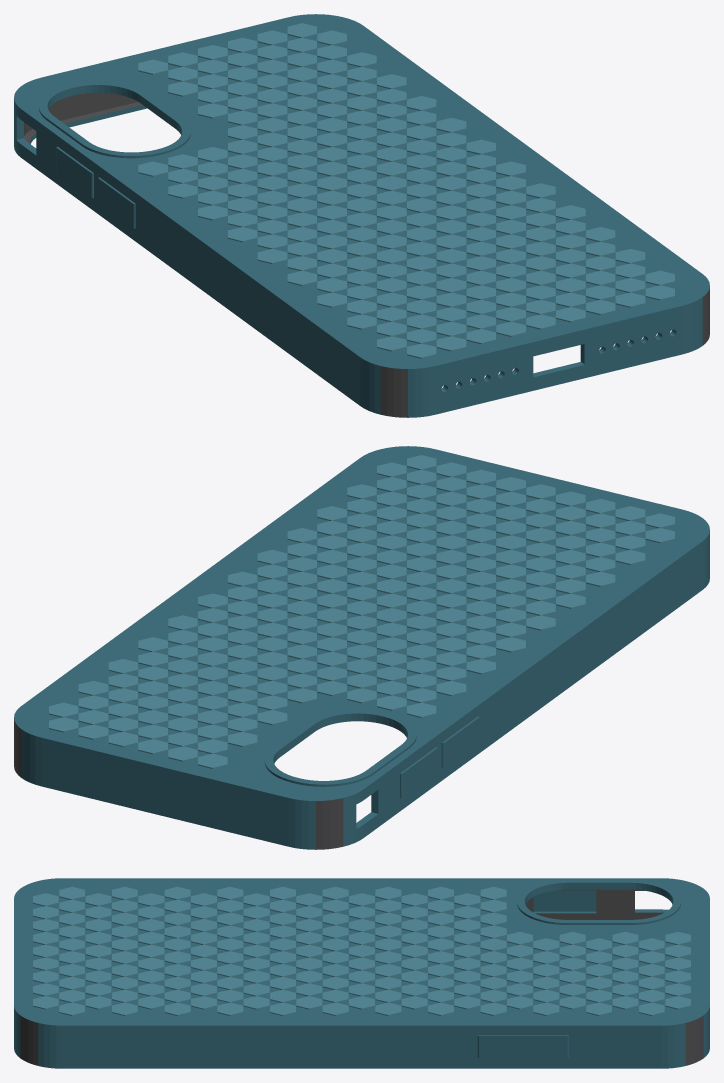
File: kilif-compact-altigen-okyanus.glb
3 views of the same model, one above another, from view 1: azimuth 30°, elevation 25°; view 2: azimuth 150°, elevation 25°; view 3: azimuth 270°, elevation 25° (orthographic). The views are drawn at different scales.
Parts seen in each view (by area): view 1: Kilif; view 2: Kilif; view 3: Kilif.
Boxes of the visible parts, x1,y1,x2,y2 form: Kilif: [14, 14, 709, 417]; Kilif: [14, 446, 709, 849]; Kilif: [14, 878, 709, 1068].
Bounding box in the file's own units: 0.0743 × 0.0105 × 0.1464.
